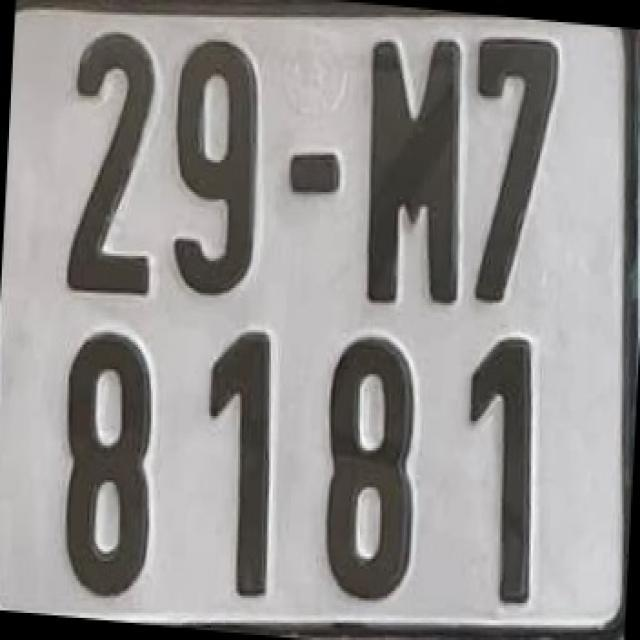1: (460, 327, 551, 608), (200, 320, 289, 606)
2: (58, 22, 160, 300)
7: (471, 30, 562, 308)
8: (316, 322, 426, 606), (56, 320, 162, 601)
9: (168, 27, 268, 300)
M: (361, 28, 466, 306)
